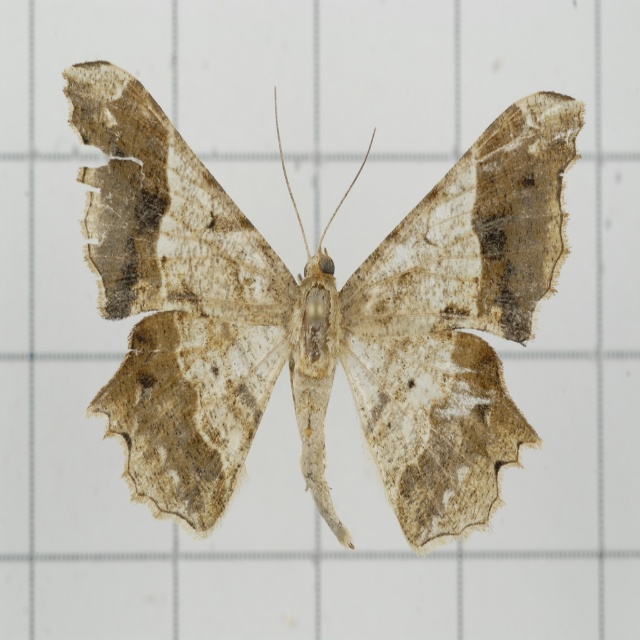Butterfly: (65, 83, 582, 551)
